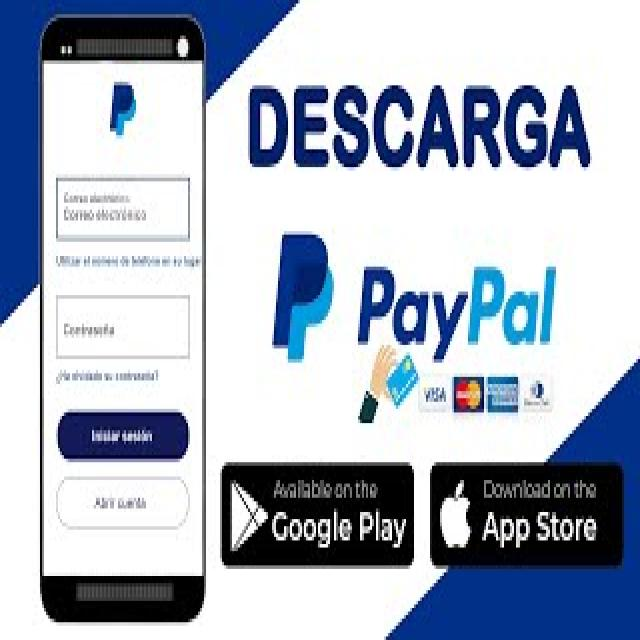paypal: (272, 232, 334, 364), (110, 80, 136, 137)
paypal_txt: (358, 266, 558, 363)
